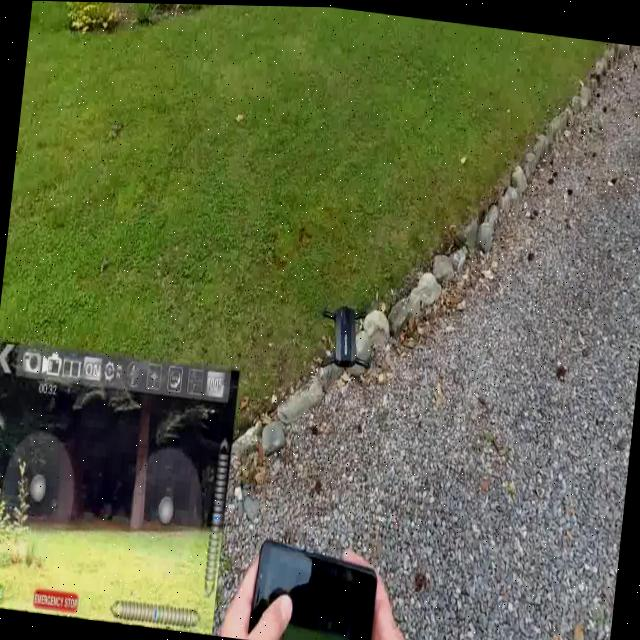drone: (272, 268, 414, 399)
